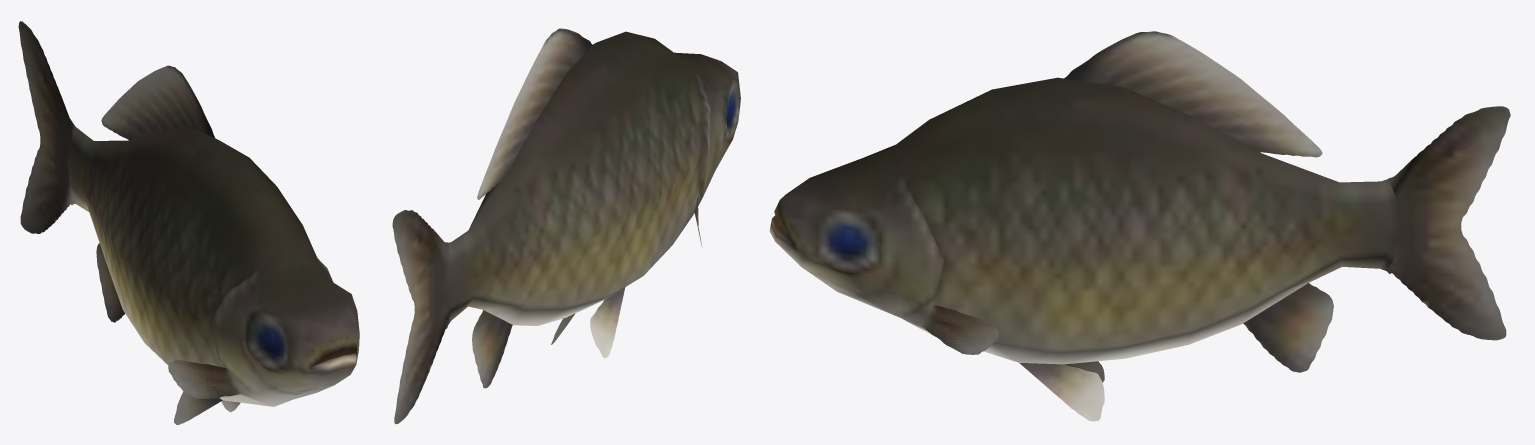
The model's file is crucian-carp.glb.
The picture shows the model from 3 angles, left to right: view 1: azimuth 30°, elevation 25°; view 2: azimuth 150°, elevation 25°; view 3: azimuth 270°, elevation 25°; orthographic projection. The views are drawn at different scales.
Size of the model in its own units: 1.77 by 3.76 by 6.39.
1 material, 1 textured.
